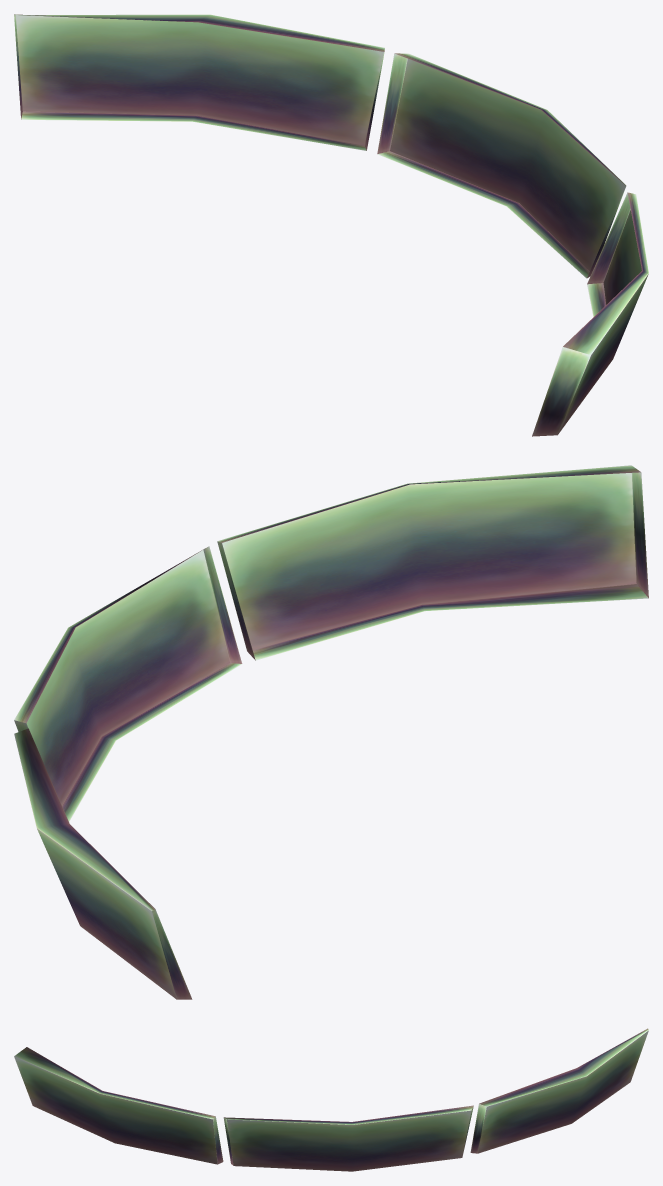
The model's file is bunker_dungeon_east_perch_windows.DAE.
3 views of the same model, one above another, from view 1: azimuth 30°, elevation 25°; view 2: azimuth 150°, elevation 25°; view 3: azimuth 270°, elevation 25° (orthographic). The views are drawn at different scales.
Parts seen in each view (by area): view 1: Box12; view 2: Box12; view 3: Box12.
Boxes of the visible parts, <box> form: Box12: <box>14,14,648,436</box>; Box12: <box>14,465,648,999</box>; Box12: <box>14,1028,648,1171</box>.
Bounding box in the file's own units: 48.79 × 13.89 × 132.
